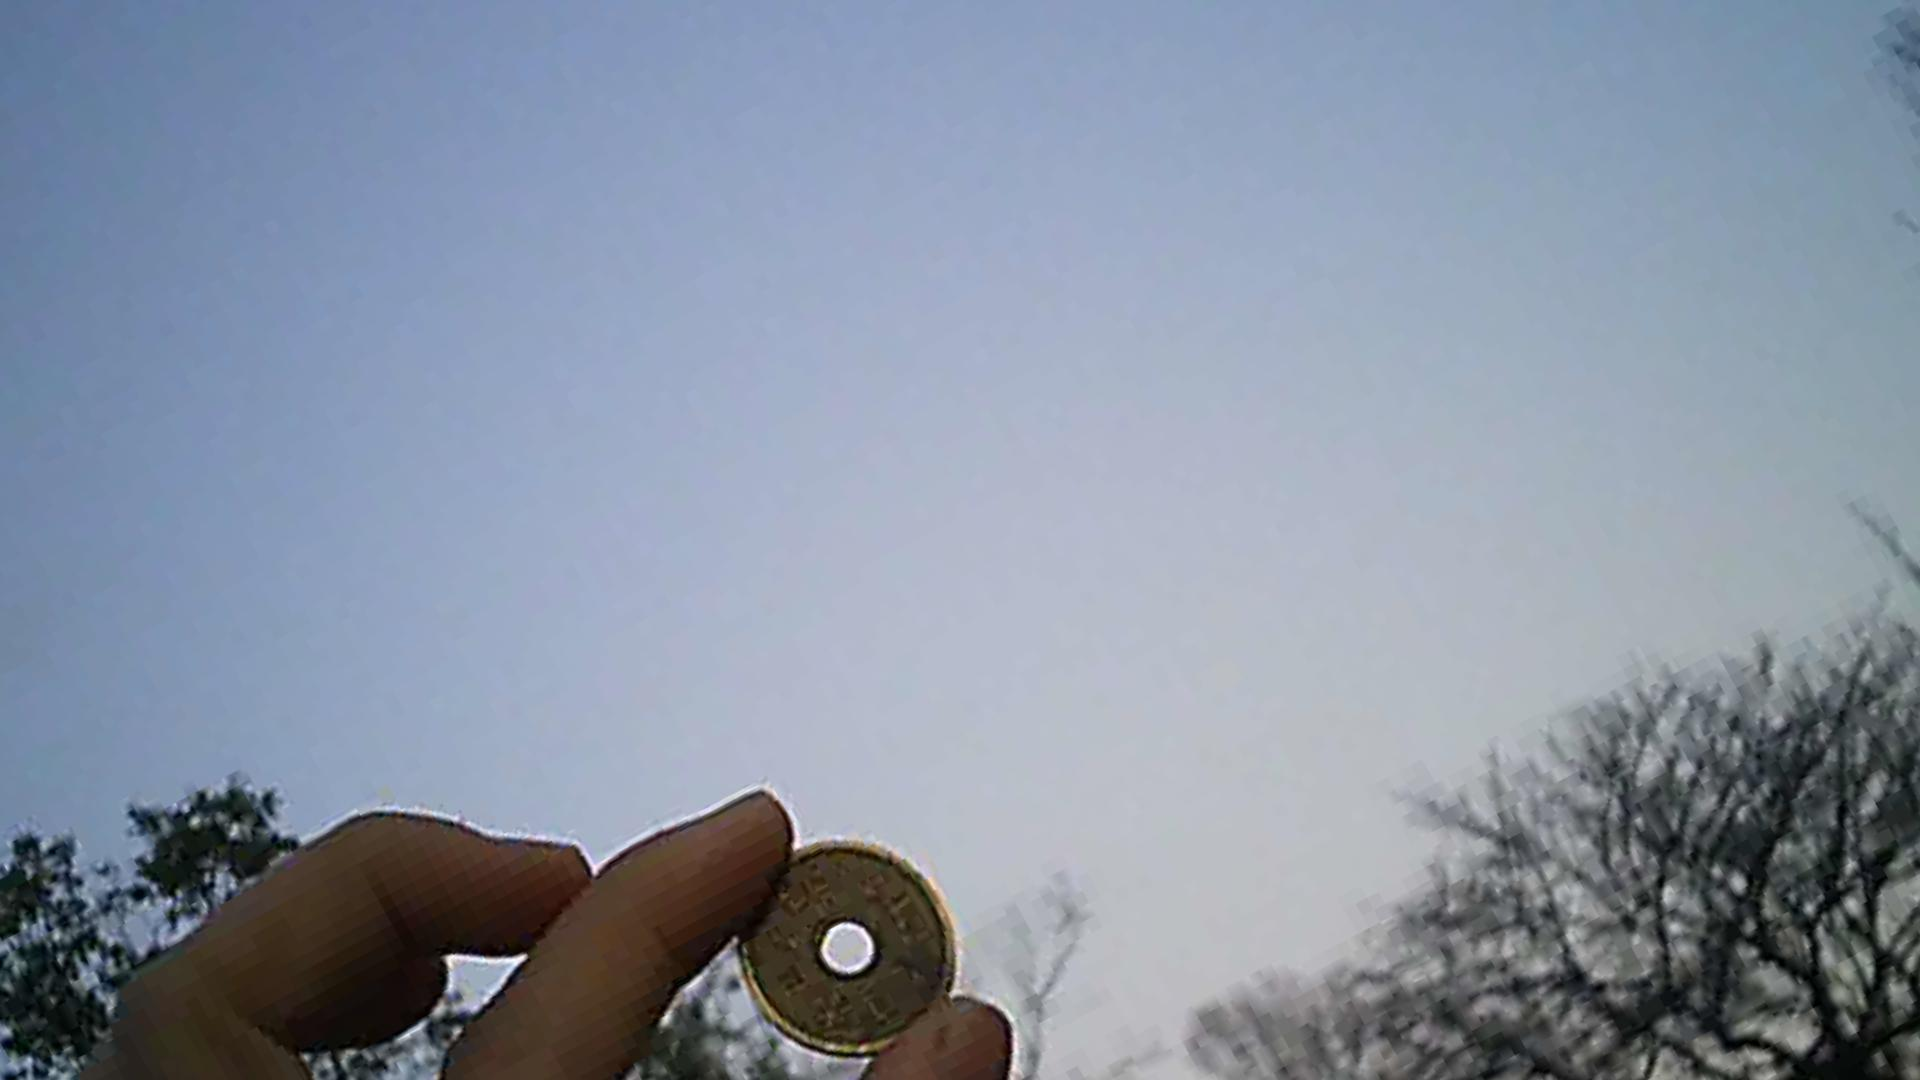5 Yen: (727, 815, 985, 1051)
